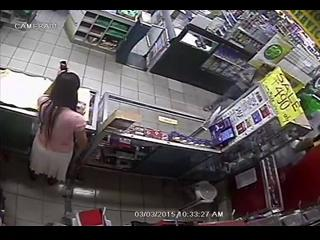Normal: (28, 70, 90, 188)
